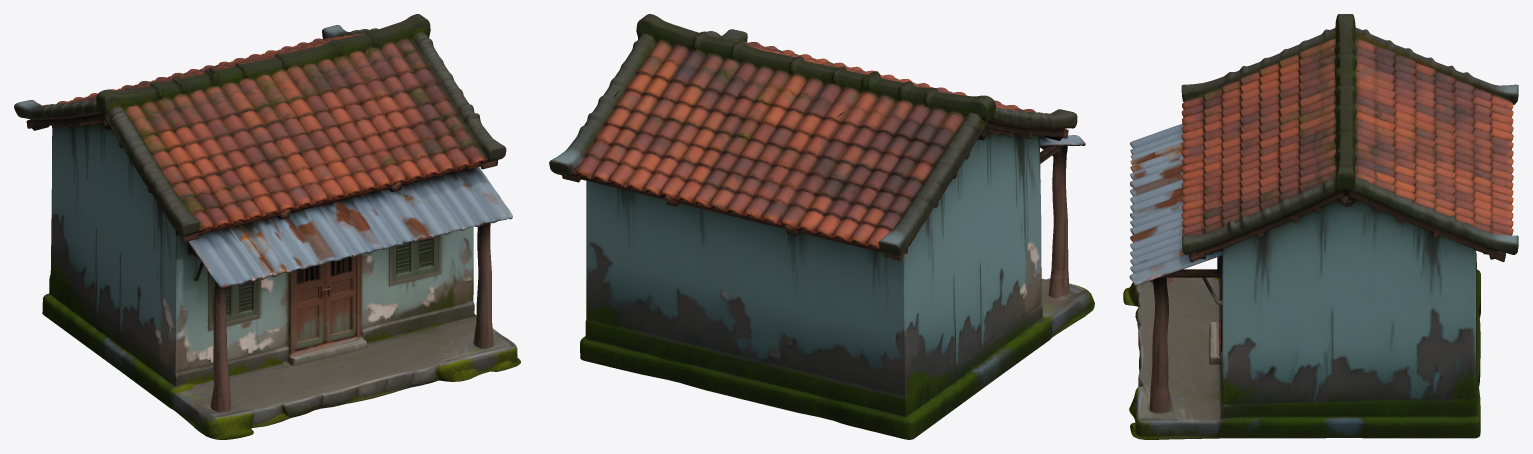
File: NhaQue_Tencent_05.fbx
3 views of the same model, side by side, from view 1: azimuth 30°, elevation 25°; view 2: azimuth 150°, elevation 25°; view 3: azimuth 270°, elevation 25° (orthographic). The views are drawn at different scales.
Parts seen in each view (by area): view 1: Nha05_LOD0; view 2: Nha05_LOD0; view 3: Nha05_LOD0.
Part boxes in pixels (x1,y1,x2,y2): Nha05_LOD0: (14, 14, 520, 439); Nha05_LOD0: (549, 14, 1094, 439); Nha05_LOD0: (1123, 14, 1518, 439).
Size of what is drawn, in the model's own units: 7.19 by 5.7 by 7.5.
